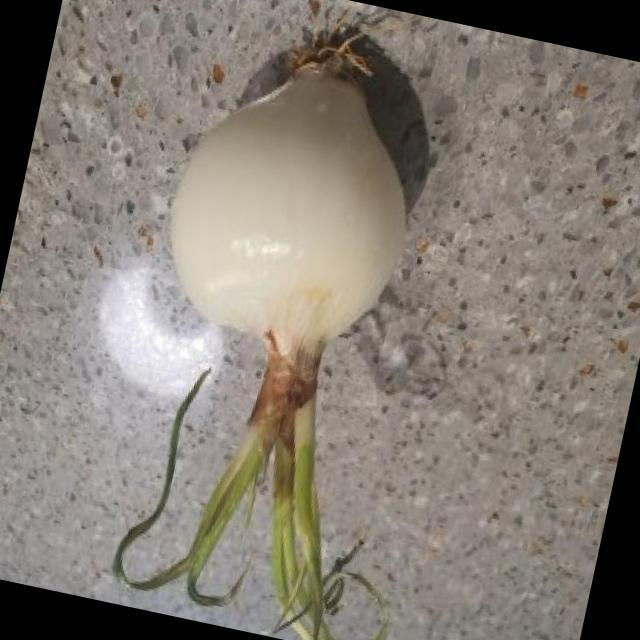Onion: (165, 38, 409, 384)
